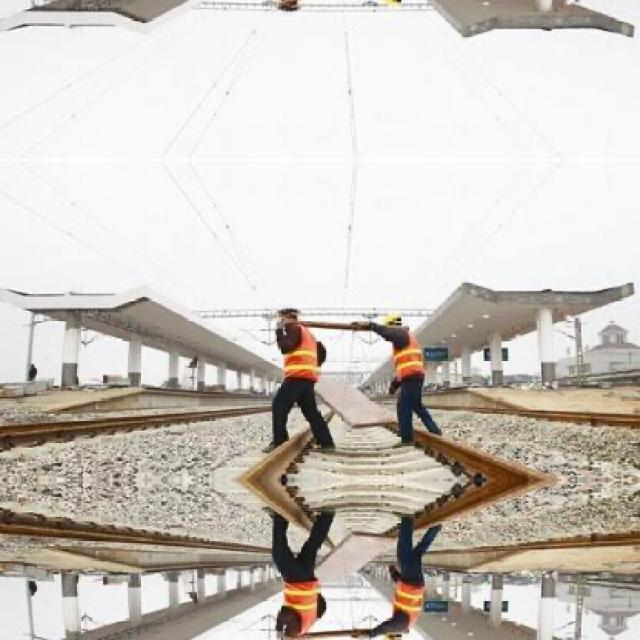Reflective-Jacket: (269, 323, 328, 391), (383, 331, 432, 391)
Safety-Helmet: (266, 288, 312, 323), (376, 304, 412, 330)
